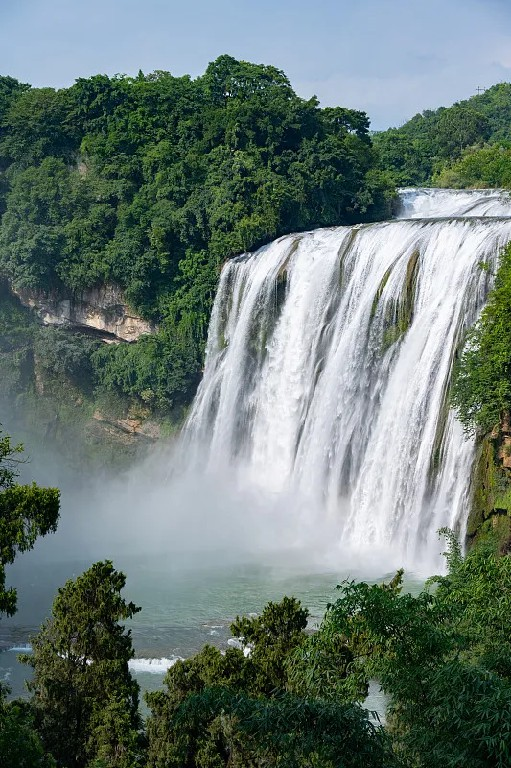Huangguoshu: (189, 187, 511, 579)
